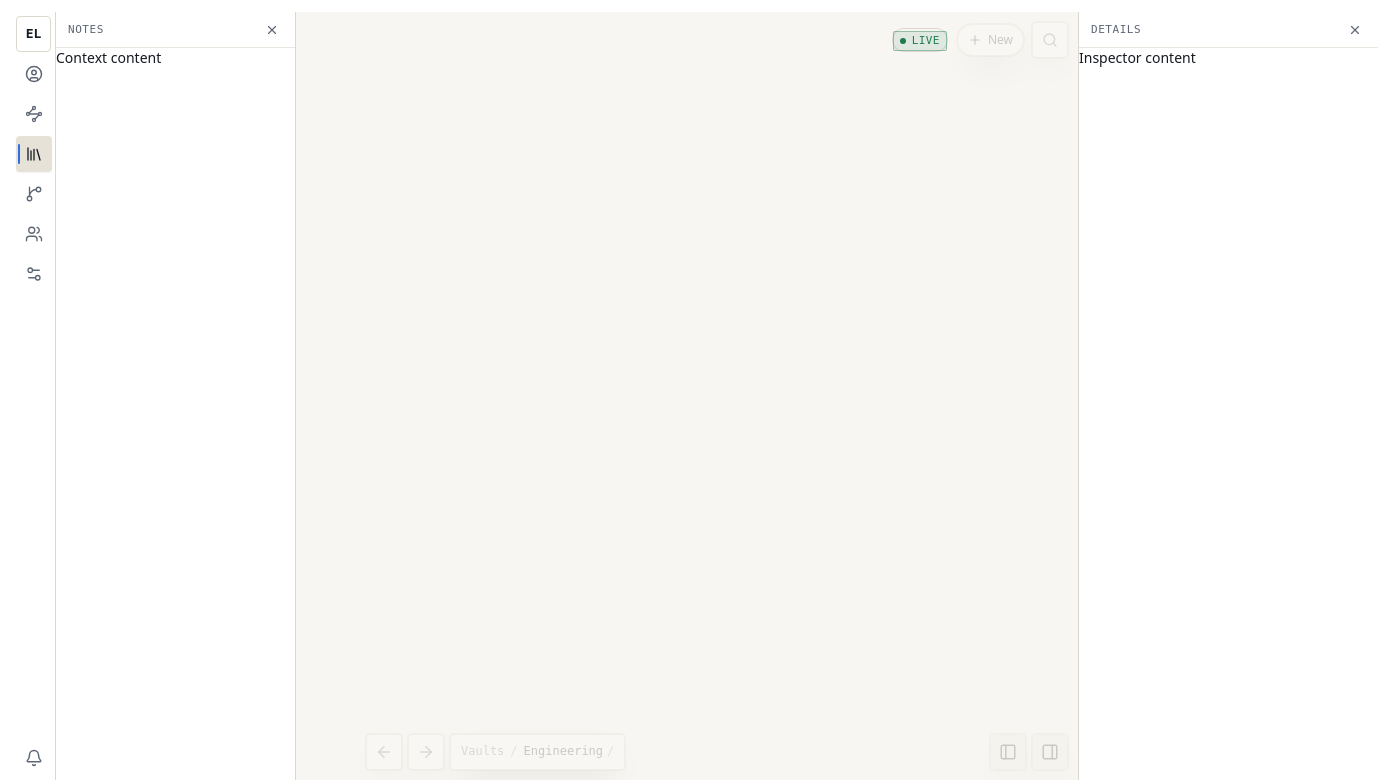
Test case: AppShell › closes open panel when clicking the panel header close button
Check: the text "Context content" is shown, box [56,48,161,67]
Click the button named "Close Notes" at [272, 30], box [261,18,283,40]
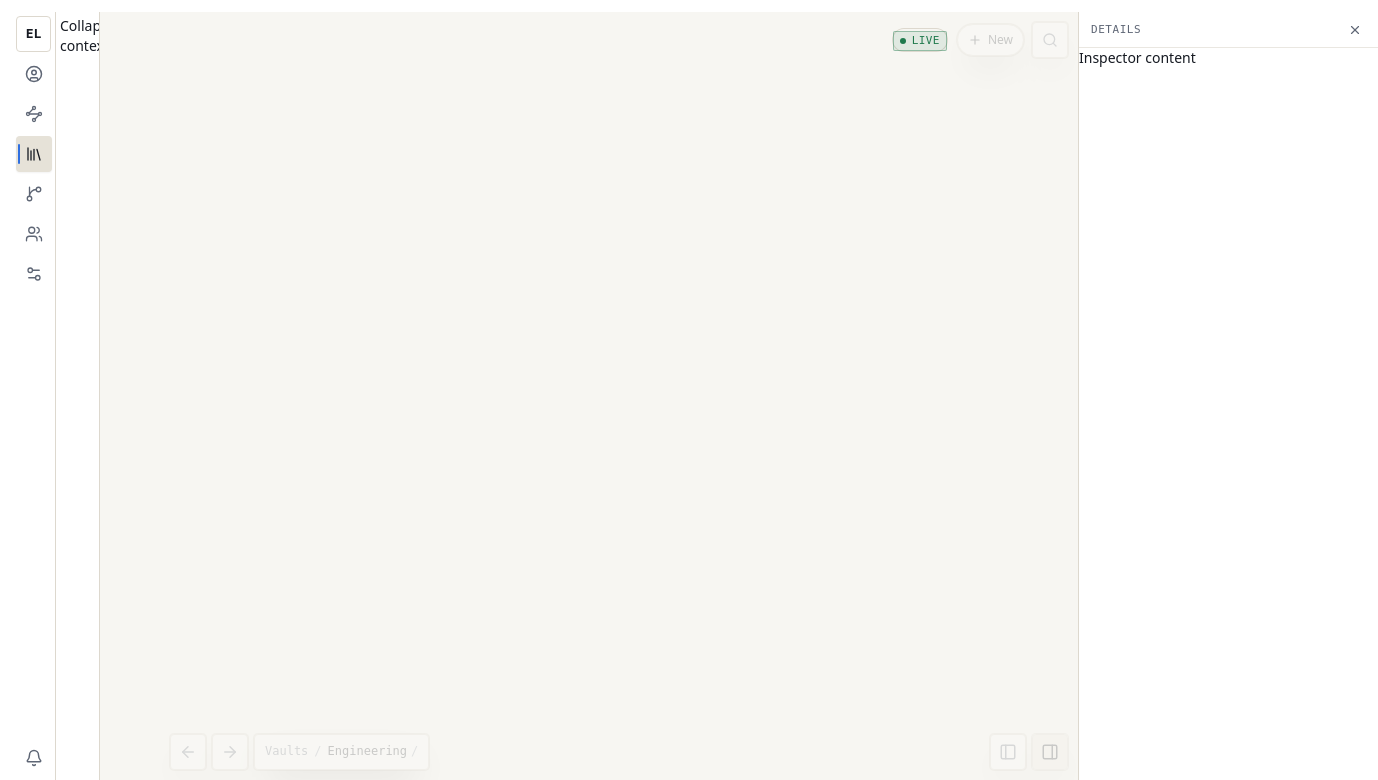
Check: the text "Collapsed context" is shown, box [60,16,95,57]
